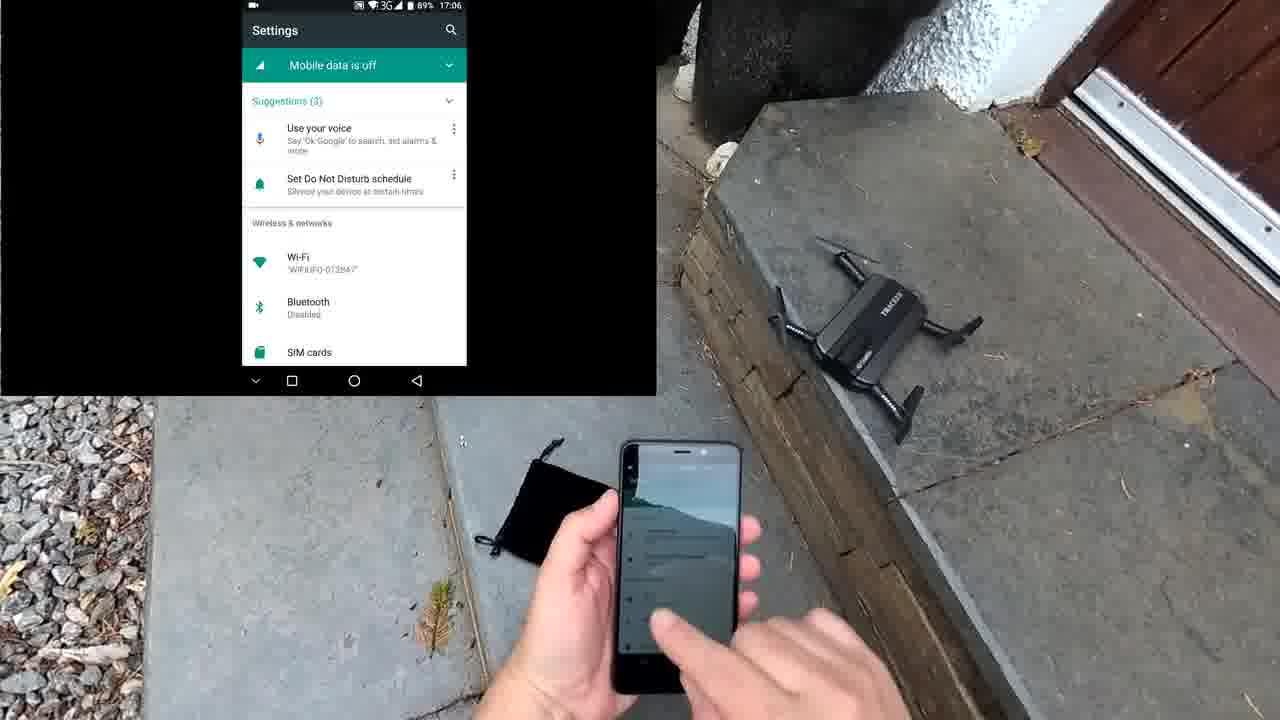drone: (739, 211, 1002, 456)
